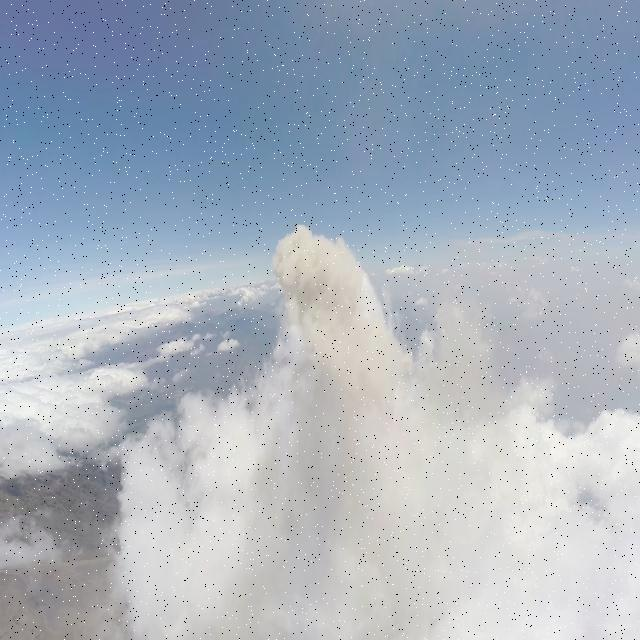Plume: (235, 220, 488, 640)
